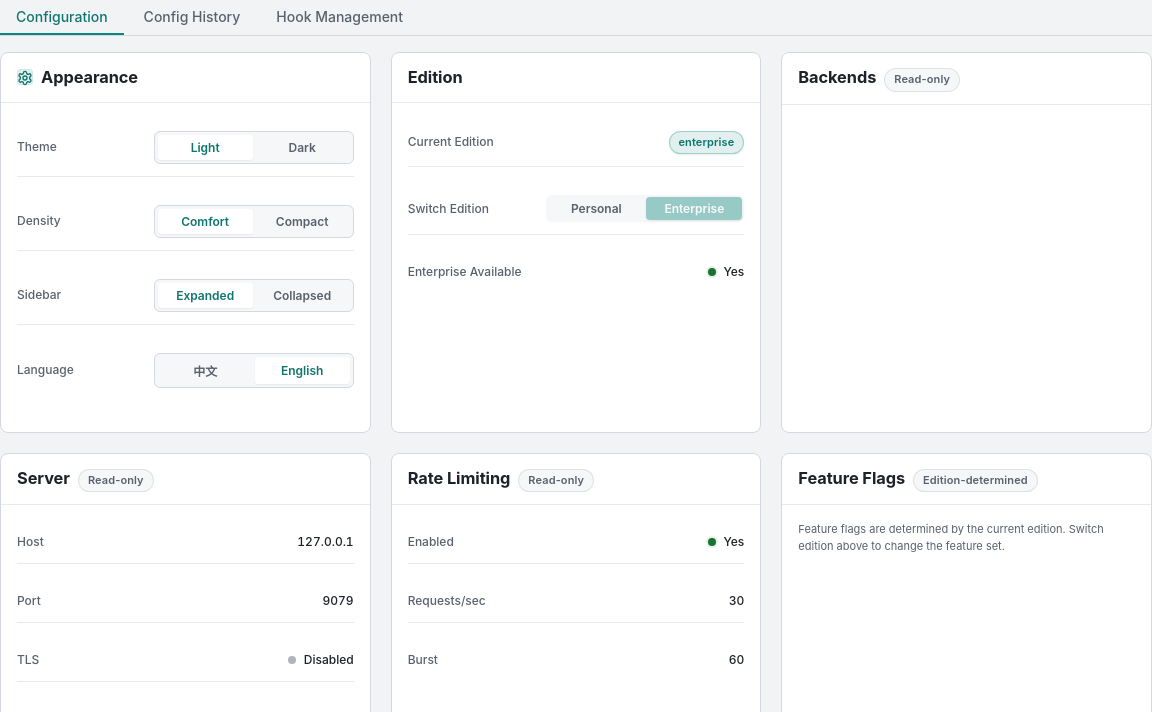
Scenario: Settings.vue Hook 管理 Tab › renders hook list table with loaded hooks
This screenshot has width=1152, height=712.
Step 1. Click the tab with class "settings-tab" showing "Hook Management" → (340, 18), box [260,0,419,35]
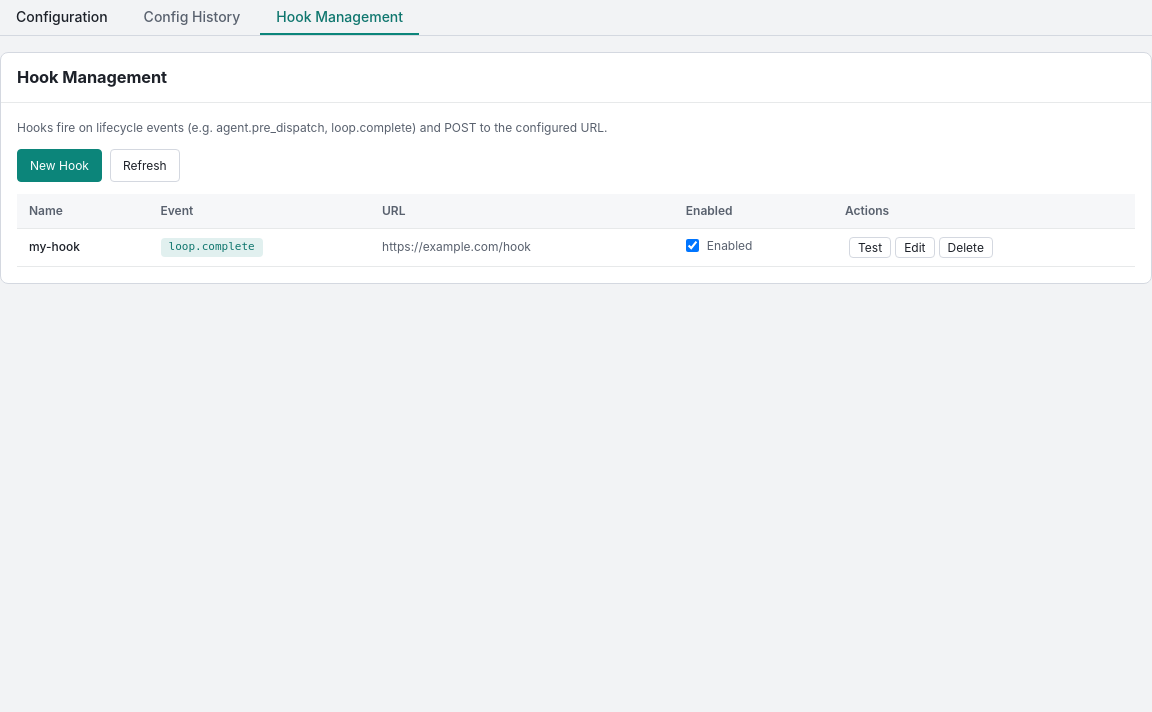
Check: the table with class "hooks-table" is shown, box [17,194,1135,267]
Check: the text "my-hook" is shown, box [17,228,148,266]
Check: the text "loop.complete" is shown, box [17,120,608,135]
